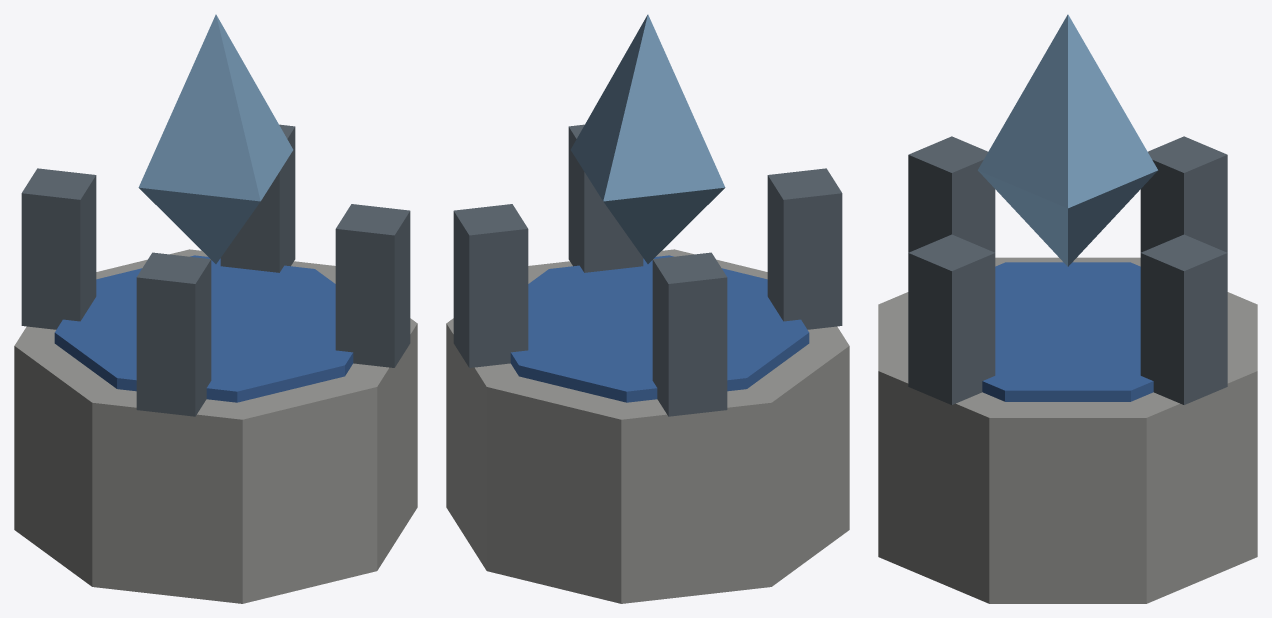
File: well.glb
3 views of the same model, side by side, from view 1: azimuth 30°, elevation 25°; view 2: azimuth 150°, elevation 25°; view 3: azimuth 270°, elevation 25° (orthographic).
Parts seen in each view (by area): view 1: Well, Water, CrystalUp, Menhir1, Menhir0, Menhir2, Menhir3, CrystalDn; view 2: Well, Water, CrystalUp, Menhir2, Menhir3, Menhir1, Menhir0, CrystalDn; view 3: Well, Water, CrystalUp, Menhir0, Menhir3, Menhir1, Menhir2, CrystalDn.
Boxes of the visible parts, left/top/right/bottom form: Well: left=14, top=249, right=417, bottom=603; Water: left=54, top=255, right=353, bottom=402; CrystalUp: left=138, top=14, right=293, bottom=201; Menhir1: left=136, top=252, right=211, bottom=416; Menhir0: left=335, top=204, right=410, bottom=367; Menhir2: left=21, top=168, right=96, bottom=329; Menhir3: left=220, top=124, right=295, bottom=272; CrystalDn: left=139, top=187, right=260, bottom=263; Well: left=446, top=249, right=849, bottom=603; Water: left=510, top=255, right=809, bottom=402; CrystalUp: left=570, top=14, right=725, bottom=201; Menhir2: left=652, top=252, right=727, bottom=416; Menhir3: left=453, top=204, right=528, bottom=367; Menhir1: left=767, top=168, right=842, bottom=329; Menhir0: left=568, top=124, right=643, bottom=272; CrystalDn: left=603, top=187, right=724, bottom=263; Well: left=878, top=257, right=1257, bottom=603; Water: left=982, top=262, right=1153, bottom=401; CrystalUp: left=978, top=14, right=1157, bottom=208; Menhir0: left=908, top=234, right=995, bottom=404; Menhir3: left=1140, top=234, right=1227, bottom=404; Menhir1: left=908, top=136, right=995, bottom=252; Menhir2: left=1140, top=136, right=1227, bottom=252; CrystalDn: left=978, top=170, right=1157, bottom=266.
Size of the model in its own units: 0.9239 by 1.37 by 0.9239.
